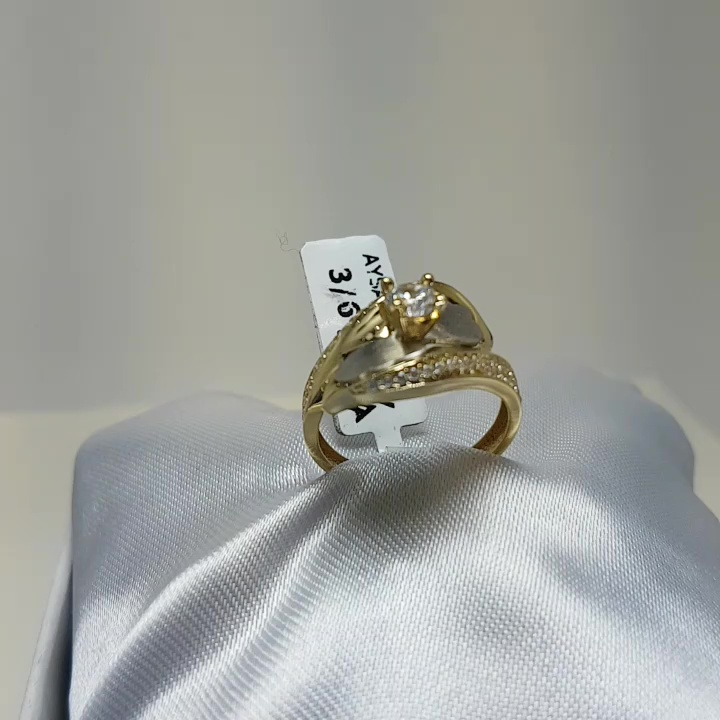Ring 6: (284, 266, 529, 496)
